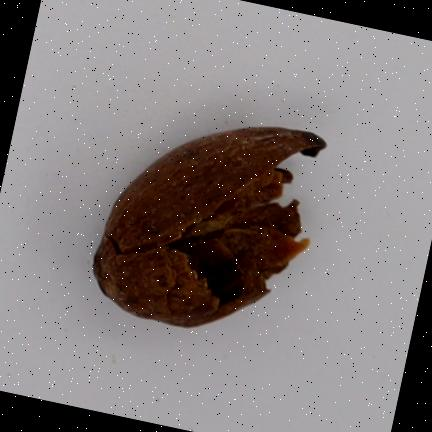husk: (93, 127, 324, 327)
